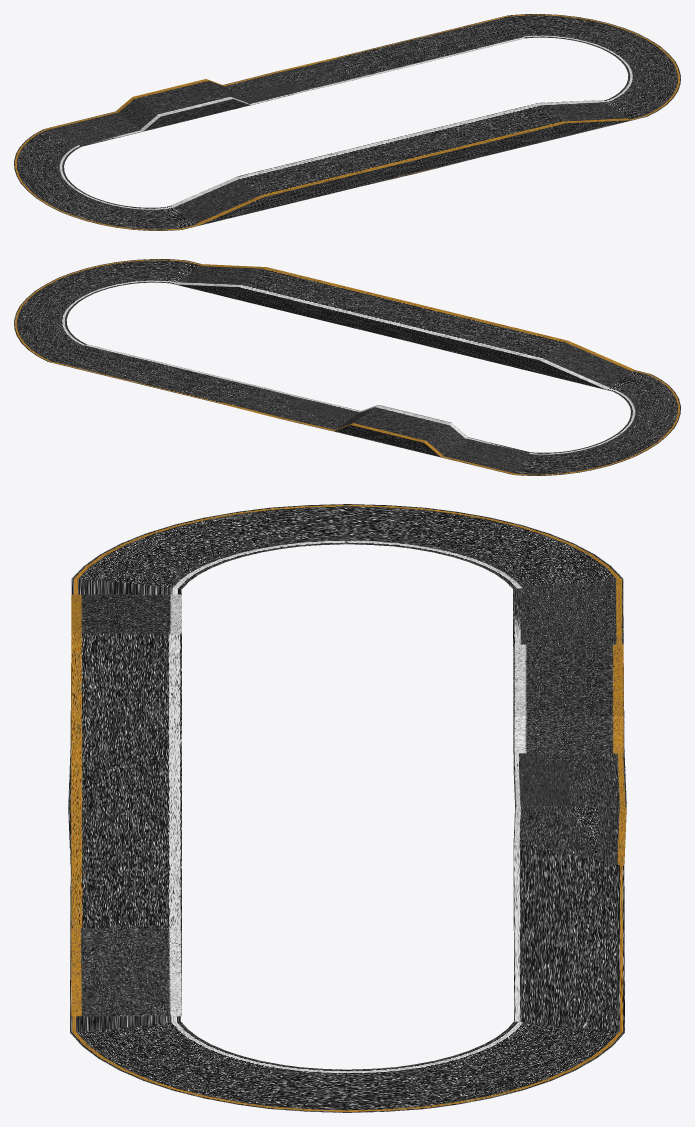
The model's file is circuito.obj.
3 views of the same model, one above another, from view 1: azimuth 30°, elevation 25°; view 2: azimuth 150°, elevation 25°; view 3: azimuth 270°, elevation 25° (orthographic). The views are drawn at different scales.
Parts seen in each view (by area): view 1: Cube; view 2: Cube; view 3: Cube.
Boxes of the visible parts, x1,y1,x2,y2 form: Cube: (14, 14, 680, 230); Cube: (14, 259, 680, 475); Cube: (68, 504, 626, 1112).
Size of the model in its own units: 209 by 4.21 by 80.99.
